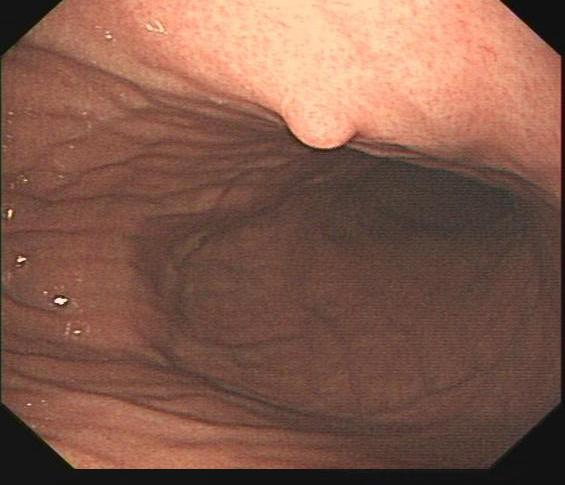Polyp: (268, 83, 377, 154)
